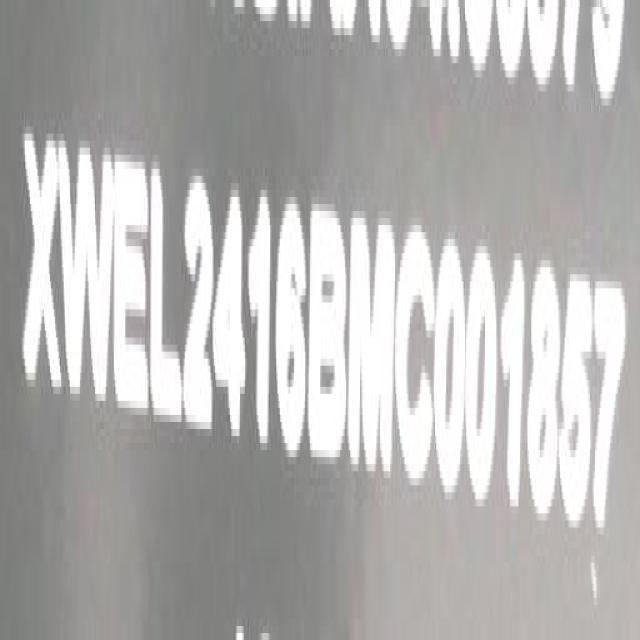0: (434, 229, 468, 505), (464, 236, 496, 514)
1: (500, 242, 527, 518), (250, 178, 275, 458)
2: (184, 161, 217, 445)
4: (213, 175, 248, 452)
5: (558, 264, 594, 535)
6: (275, 182, 309, 464)
7: (594, 274, 630, 542)
8: (528, 256, 560, 526)
B: (307, 188, 350, 474)
C: (395, 217, 437, 496)
E: (112, 143, 152, 429)
L: (149, 152, 184, 438)
M: (348, 198, 395, 487)
W: (61, 126, 117, 420)
X: (20, 115, 66, 408)
